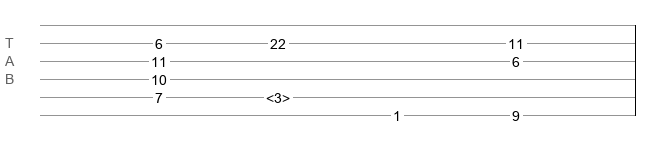1: (393, 108, 401, 118)
10: (151, 72, 167, 82)
11: (151, 54, 167, 64), (508, 36, 524, 46)
22: (270, 36, 286, 46)
6: (155, 36, 163, 46), (512, 54, 520, 64)
7: (155, 90, 163, 100)
9: (512, 108, 520, 118)
harmonic: (266, 90, 290, 100)
